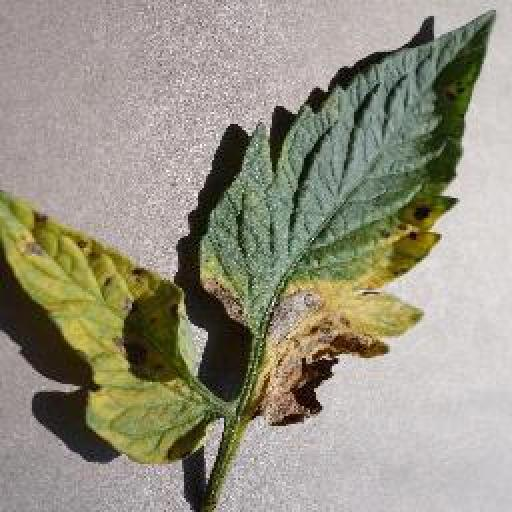disease_tomato: (199, 10, 495, 430)
